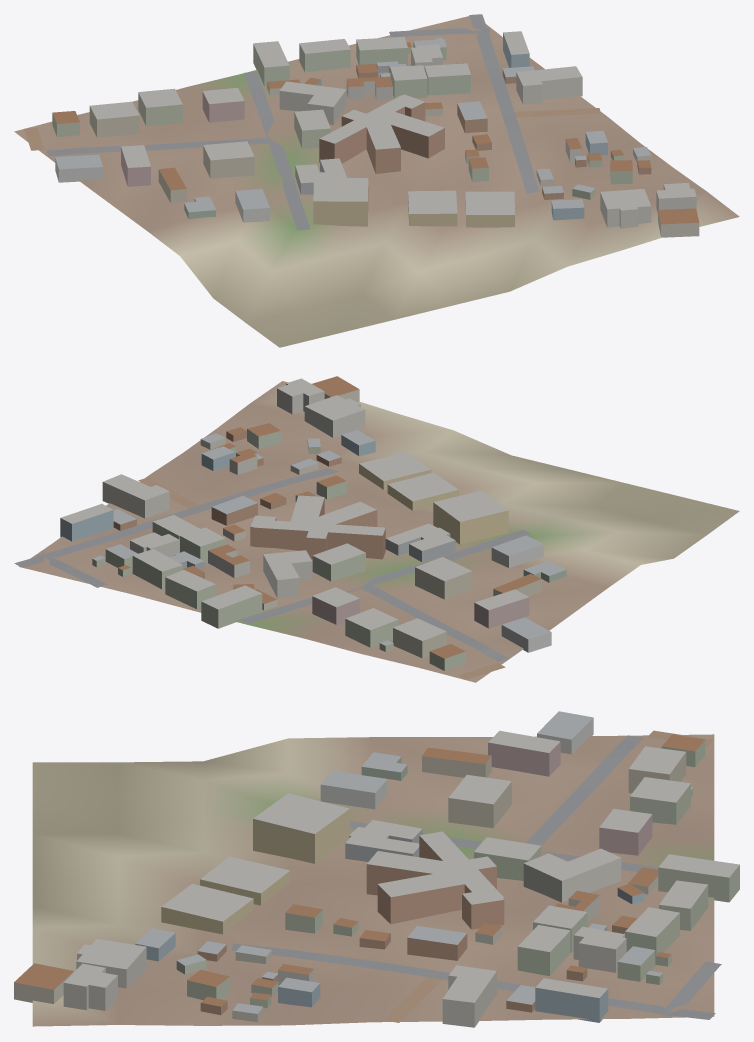
3 renders of one model, top to bottom at view 1: azimuth 30°, elevation 25°; view 2: azimuth 150°, elevation 25°; view 3: azimuth 270°, elevation 25°, orthographic. The views are drawn at different scales.
Visible parts, largest first — view 1: Lo; view 2: Lo; view 3: Lo.
Part boxes in pixels (<box>): Lo: <box>14,14,739,347</box>; Lo: <box>14,376,739,682</box>; Lo: <box>14,711,739,1027</box>.
Size of the model in its own units: 269 by 23.11 by 273.
